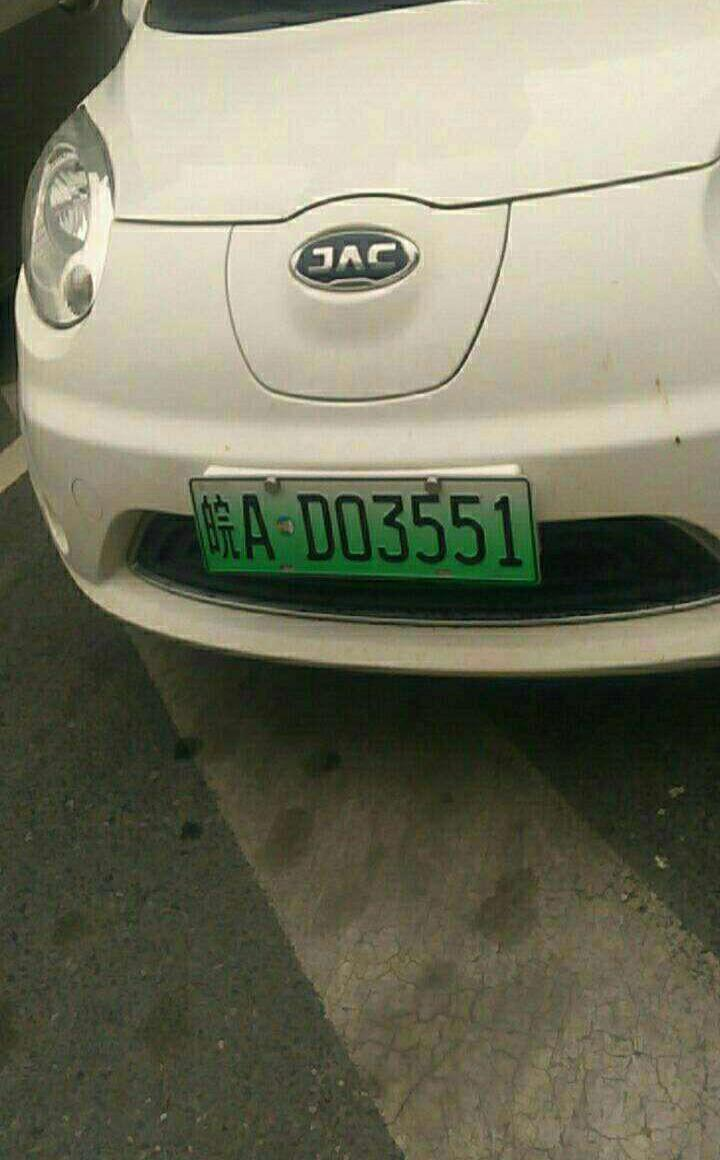car_id: (187, 481, 535, 583)
